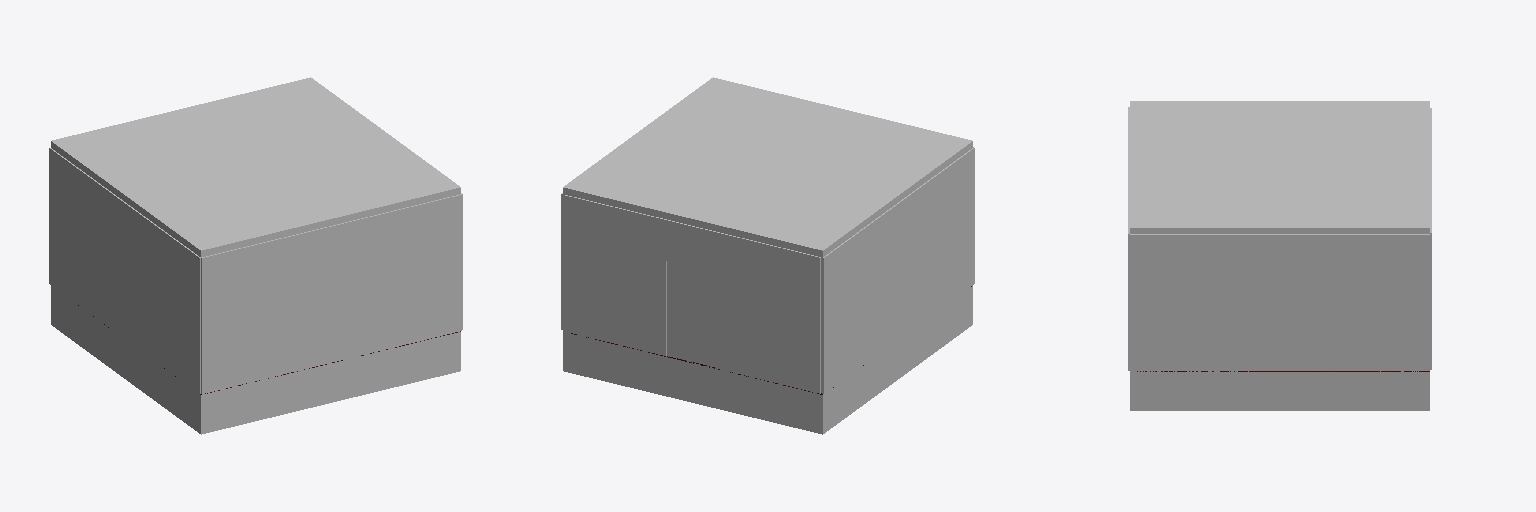
3 views of the same model, side by side, from view 1: azimuth 30°, elevation 25°; view 2: azimuth 150°, elevation 25°; view 3: azimuth 270°, elevation 25° (orthographic).
Parts seen in each view (by area): view 1: UCX_1x1_hotel_room_end_07, UCX_1x1_hotel_room_end_06, UCX_1x1_hotel_room_end_05, UCX_1x1_hotel_room_end_00; view 2: UCX_1x1_hotel_room_end_07, UCX_1x1_hotel_room_end_05, UCX_1x1_hotel_room_end_00, UCX_1x1_hotel_room_end_02, UCX_1x1_hotel_room_end_01, 1x1_hotel_room_end, UCX_1x1_hotel_room_end_03; view 3: UCX_1x1_hotel_room_end_04, UCX_1x1_hotel_room_end_07, UCX_1x1_hotel_room_end_00, UCX_1x1_hotel_room_end_06.
Part boxes in pixels (x1,y1,x2,y2): UCX_1x1_hotel_room_end_07: (51,77,460,256); UCX_1x1_hotel_room_end_06: (201,194,461,393); UCX_1x1_hotel_room_end_05: (49,148,200,393); UCX_1x1_hotel_room_end_00: (51,286,460,434); UCX_1x1_hotel_room_end_07: (563,77,972,257); UCX_1x1_hotel_room_end_05: (821,148,974,393); UCX_1x1_hotel_room_end_00: (563,286,972,434); UCX_1x1_hotel_room_end_02: (718,232,820,393); UCX_1x1_hotel_room_end_01: (564,195,666,355); 1x1_hotel_room_end: (563,147,972,394); UCX_1x1_hotel_room_end_03: (666,220,718,272); UCX_1x1_hotel_room_end_04: (1130,234,1429,370); UCX_1x1_hotel_room_end_07: (1130,101,1429,233); UCX_1x1_hotel_room_end_00: (1130,371,1429,410); UCX_1x1_hotel_room_end_06: (1128,107,1129,370).
Size of the model in its own units: 20.2 by 13.5 by 20.2.
Materials: 4 (2 with a texture image).